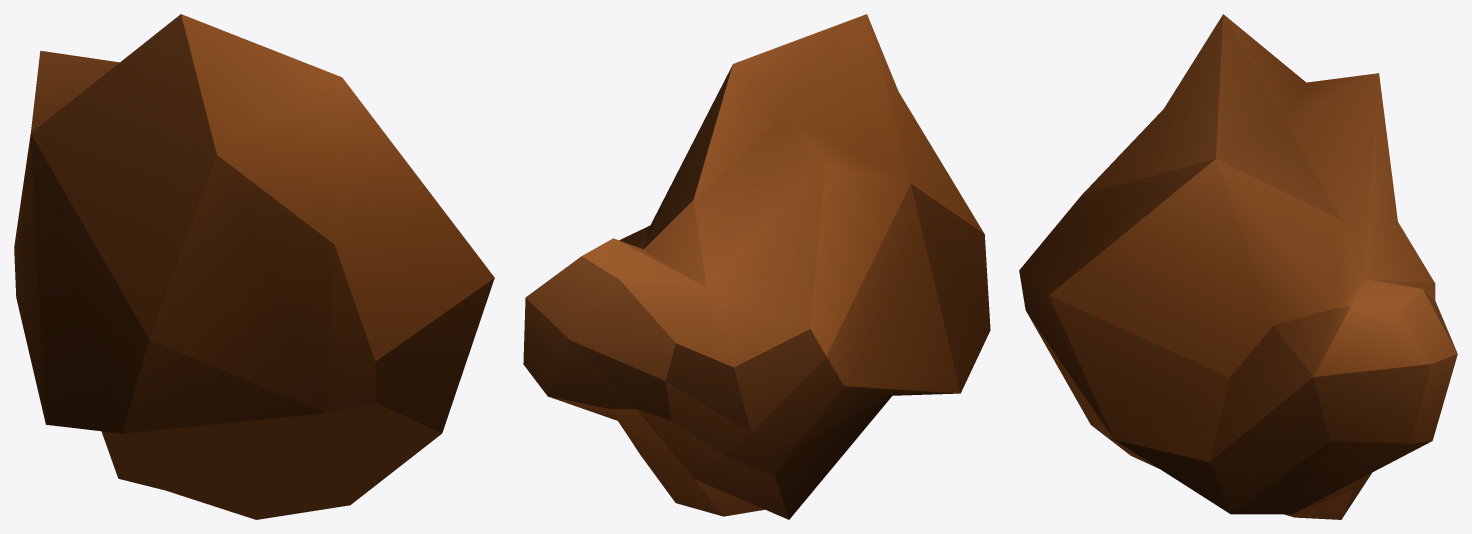
The model's file is bg_rock1.fbx.
3 views of the same model, side by side, from view 1: azimuth 30°, elevation 25°; view 2: azimuth 150°, elevation 25°; view 3: azimuth 270°, elevation 25° (orthographic). The views are drawn at different scales.
Parts seen in each view (by area): view 1: bg_rock1; view 2: bg_rock1; view 3: bg_rock1.
Part boxes in pixels (x1=…): bg_rock1: x1=14, y1=14, x2=494, y2=519; bg_rock1: x1=523, y1=14, x2=990, y2=519; bg_rock1: x1=1019, y1=14, x2=1457, y2=519.
Bounding box in the file's own units: 59.64 × 78.18 × 68.68.
